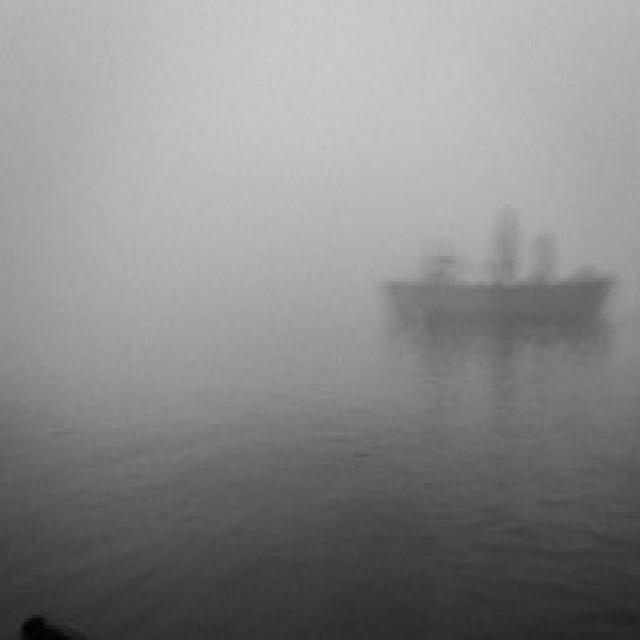fishing boat: (386, 208, 617, 340)
